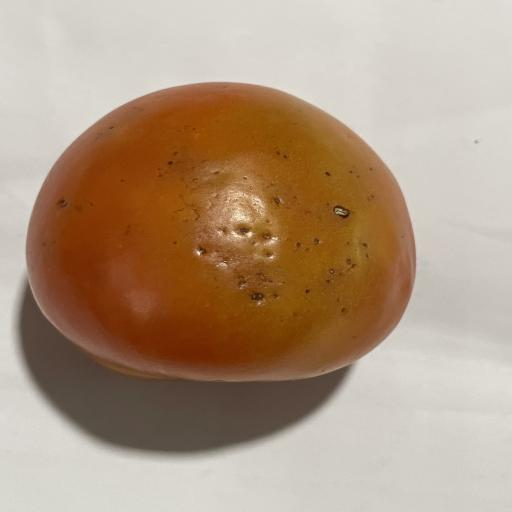unripe: (27, 83, 415, 381)
